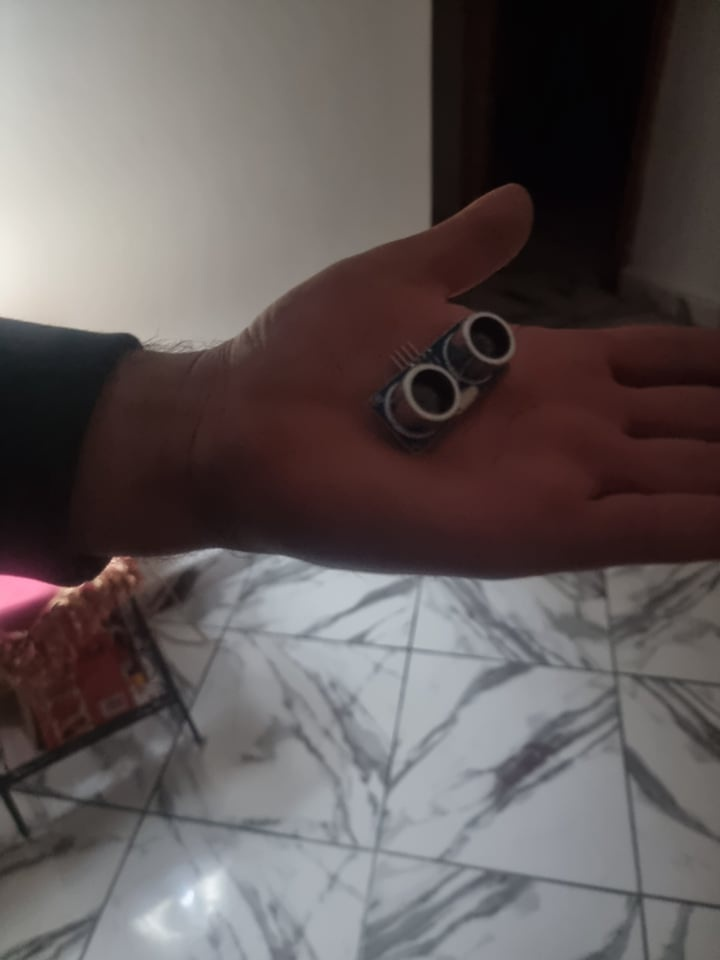SENSOR: (374, 310, 519, 452)
